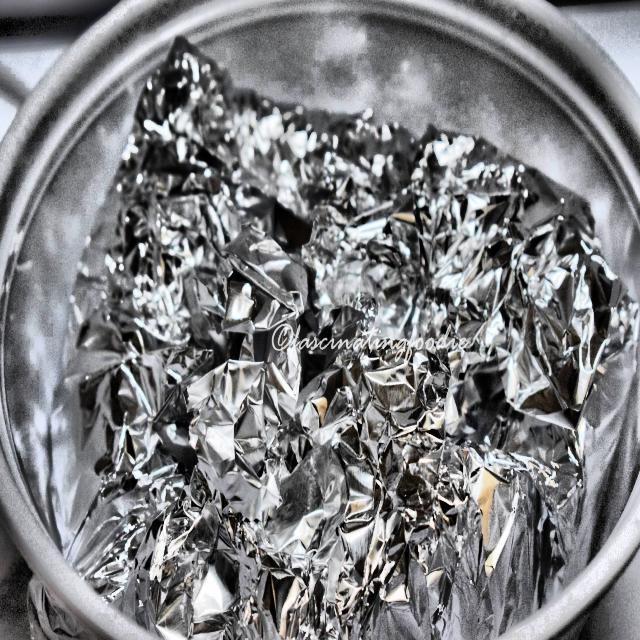Foil: (39, 25, 640, 639)
